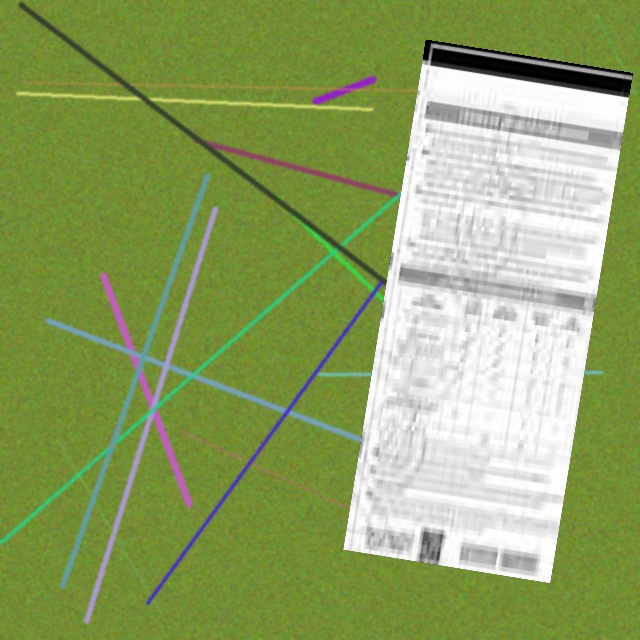electricity-bill: (343, 40, 633, 583)
